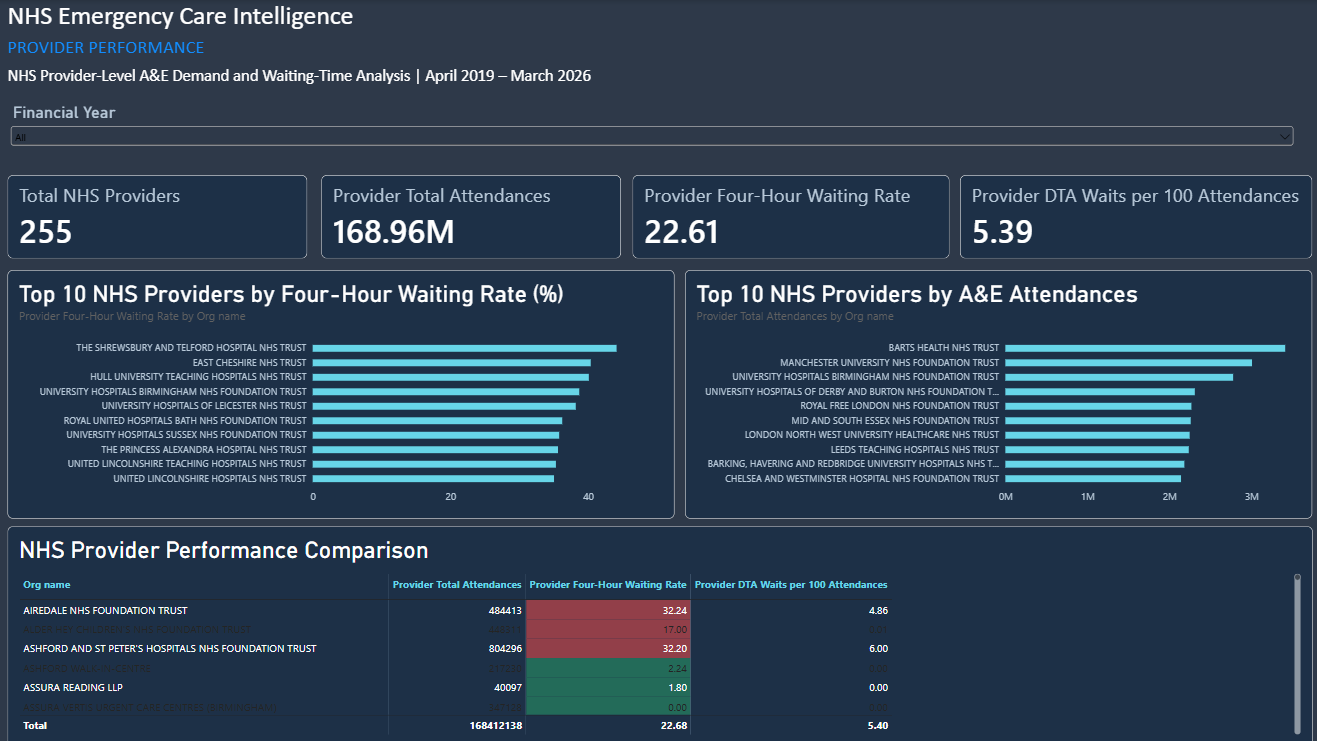

The page's visual inventory and layout, read from the dashboard file:
{"tool":"powerbi","page":{"name":"Provider Performance ","canvas":[1920,1080],"ordinal":1},"visuals":[{"type":"textbox","box":[10.3,0,564,51.5],"z":0},{"type":"textbox","box":[10.3,51.5,564,43.2],"z":1000},{"type":"textbox","box":[10.3,94.7,868.6,35],"z":2000},{"type":"cardVisual","fields":{"Data":["Fact_AE_Provider.Total NHS Providers"]},"box":[10.3,253.2,434.3,121.4],"z":3000},{"type":"cardVisual","fields":{"Data":["Fact_AE_Provider.Provider Total Attendances"]},"box":[465.2,253.2,434.3,121.4],"z":4000},{"type":"cardVisual","fields":{"Data":["Fact_AE_Provider.Provider Four-Hour Waiting Rate"]},"box":[916,253.2,459,121.4],"z":5000},{"type":"cardVisual","fields":{"Data":["Fact_AE_Provider.Provider DTA Waits per 100 Attendances"]},"box":[1389.4,253.2,510.5,121.4],"z":6000},{"type":"slicer","fields":{"Values":["Dim_Financial_Year.Financial Year"]},"box":[10.3,148.2,1866.9,82.3],"z":7000},{"type":"clusteredBarChart","title":"Top 10 NHS Providers by Four-Hour Waiting Rate (%)","fields":{"Category":["Fact_AE_Provider.Org name"],"Y":["Fact_AE_Provider.Provider Four-Hour Waiting Rate"]},"box":[10.3,391.1,965.4,360.2],"z":8000},{"type":"clusteredBarChart","title":"Top 10 NHS Providers by A&E Attendances","fields":{"Category":["Fact_AE_Provider.Org name"],"Y":["Fact_AE_Provider.Provider Total Attendances"]},"box":[992.1,391.1,907.7,360.2],"z":9000},{"type":"tableEx","title":"NHS Provider Performance Comparison","fields":{"Values":["Fact_AE_Provider.Org name","Fact_AE_Provider.Provider Total Attendances","Fact_AE_Provider.Provider Four-Hour Waiting Rate","Fact_AE_Provider.Provider DTA Waits per 100 Attendances"]},"box":[10.3,761.6,1889.5,319],"z":10000}]}

Visuals, with their boxes in screenshot pixels (x1, y1, x2, y2), scaled from the page's 1920x1080 canvas onto the 1317x741 screenshot:
textbox: {"x1": 7, "y1": 0, "x2": 394, "y2": 35}
textbox: {"x1": 7, "y1": 35, "x2": 394, "y2": 65}
textbox: {"x1": 7, "y1": 65, "x2": 603, "y2": 89}
cardVisual - Fact_AE_Provider.Total NHS Providers: {"x1": 7, "y1": 174, "x2": 305, "y2": 257}
cardVisual - Fact_AE_Provider.Provider Total Attendances: {"x1": 319, "y1": 174, "x2": 617, "y2": 257}
cardVisual - Fact_AE_Provider.Provider Four-Hour Waiting Rate: {"x1": 628, "y1": 174, "x2": 943, "y2": 257}
cardVisual - Fact_AE_Provider.Provider DTA Waits per 100 Attendances: {"x1": 953, "y1": 174, "x2": 1303, "y2": 257}
slicer - Dim_Financial_Year.Financial Year: {"x1": 7, "y1": 102, "x2": 1288, "y2": 158}
"Top 10 NHS Providers by Four-Hour Waiting Rate (%)" clusteredBarChart: {"x1": 7, "y1": 268, "x2": 669, "y2": 515}
"Top 10 NHS Providers by A&E Attendances" clusteredBarChart: {"x1": 681, "y1": 268, "x2": 1303, "y2": 515}
"NHS Provider Performance Comparison" tableEx: {"x1": 7, "y1": 523, "x2": 1303, "y2": 740}
